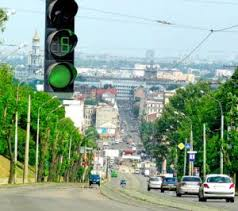signal: (44, 1, 76, 94)
